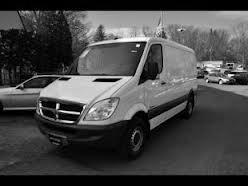car: (29, 34, 203, 158)
